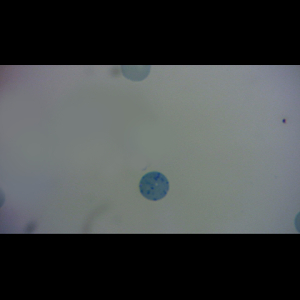aggregate reticulocyte: (138, 170, 171, 202)
